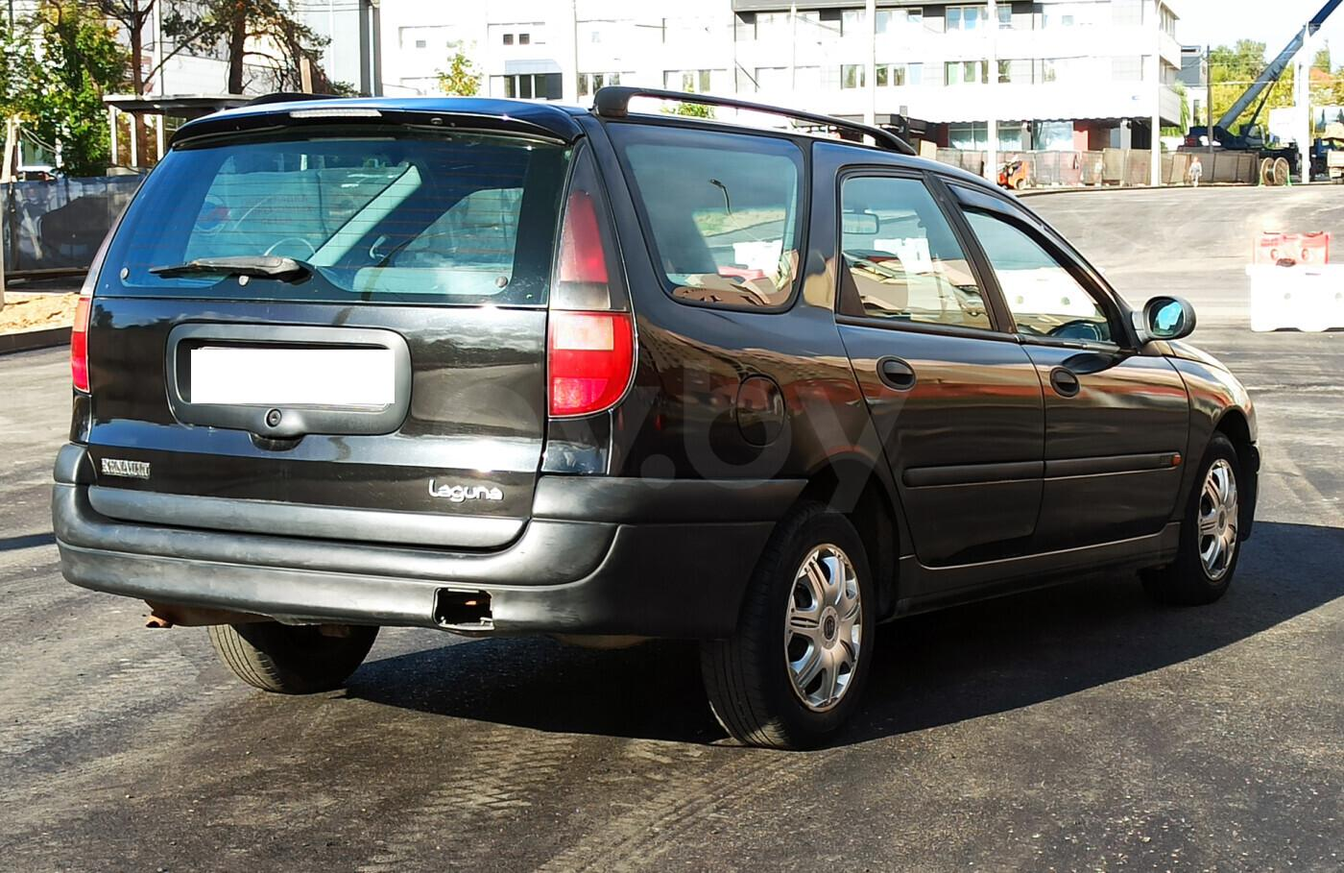Lahuna_1993-1999: (46, 78, 1255, 748)
